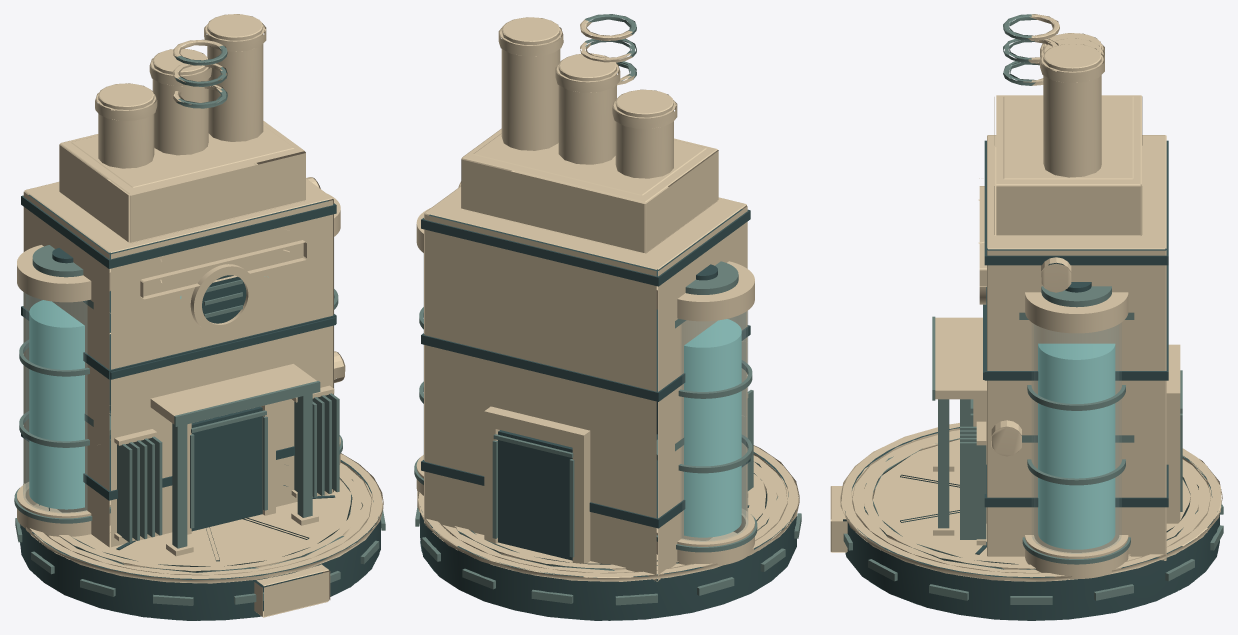
The model's file is Forge.glb.
3 renders of one model, left to right at view 1: azimuth 30°, elevation 25°; view 2: azimuth 150°, elevation 25°; view 3: azimuth 270°, elevation 25°, orthographic. The views are drawn at different scales.
Visible parts, largest first — view 1: Forge; view 2: Forge; view 3: Forge.
Boxes of the visible parts, x1=… form: Forge: x1=14, y1=14, x2=385, y2=620; Forge: x1=414, y1=14, x2=801, y2=620; Forge: x1=830, y1=14, x2=1223, y2=620.
Size of the model in its own units: 4.68 by 6.93 by 4.79.
